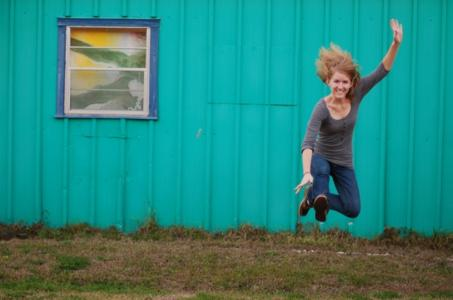person: (294, 20, 407, 224)
